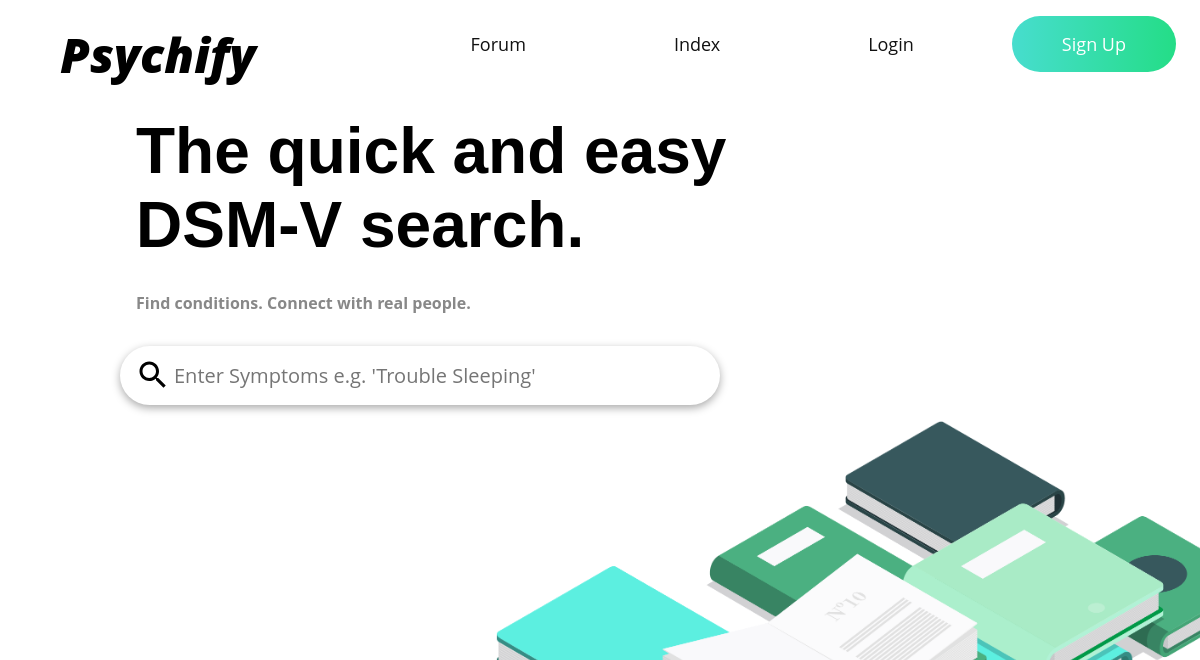
Test case: test incorrect login › logs in with wrong password
Click the link to "/login" at {"x": 891, "y": 44}, box left=818, top=16, right=964, bottom=72
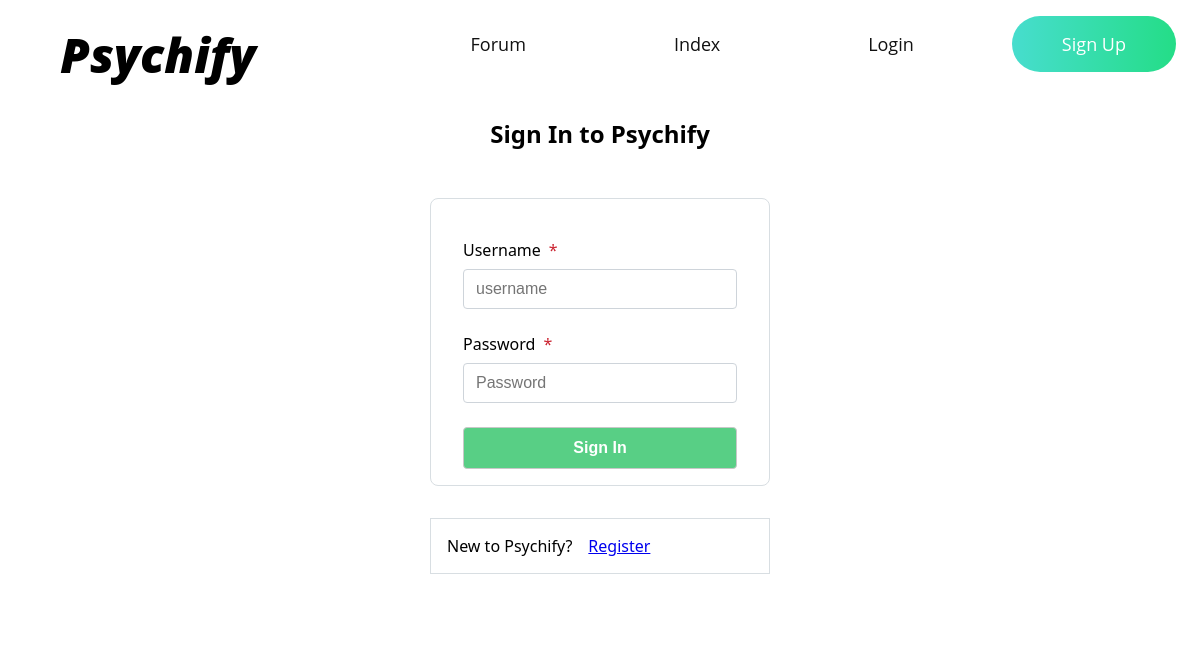
Type "test" into the field with id "inputUsername" at {"x": 600, "y": 289}, box left=463, top=269, right=737, bottom=309
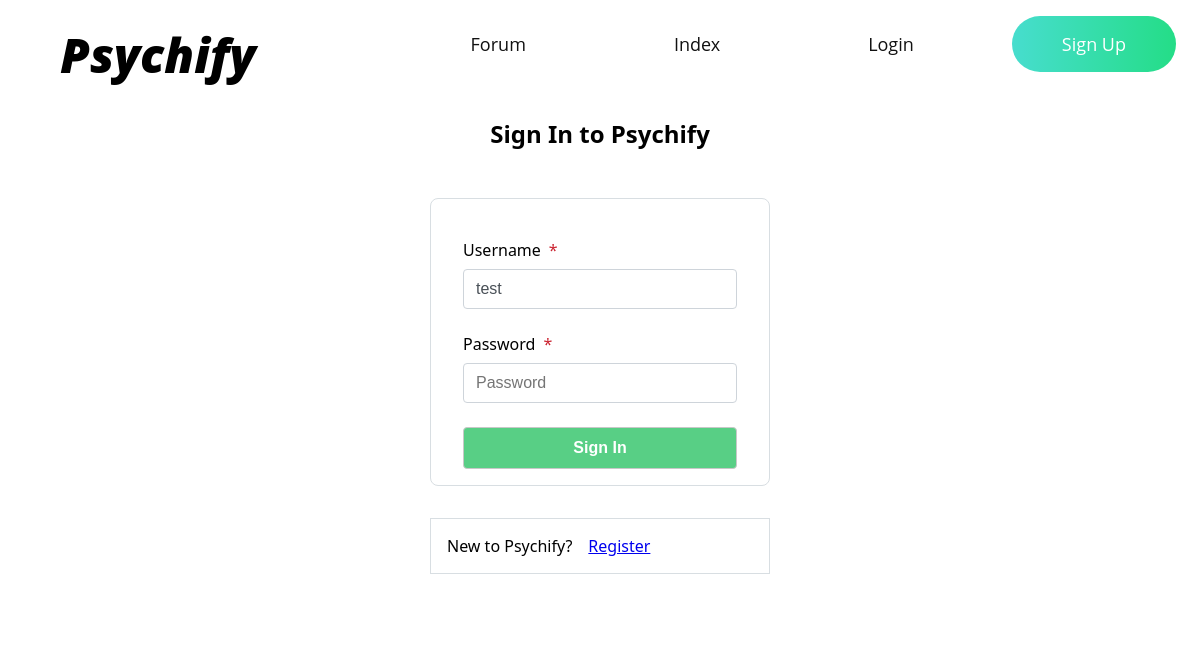
Type "wrongpassword" into the password field with id "inputPassword" at {"x": 600, "y": 383}, box left=463, top=363, right=737, bottom=403
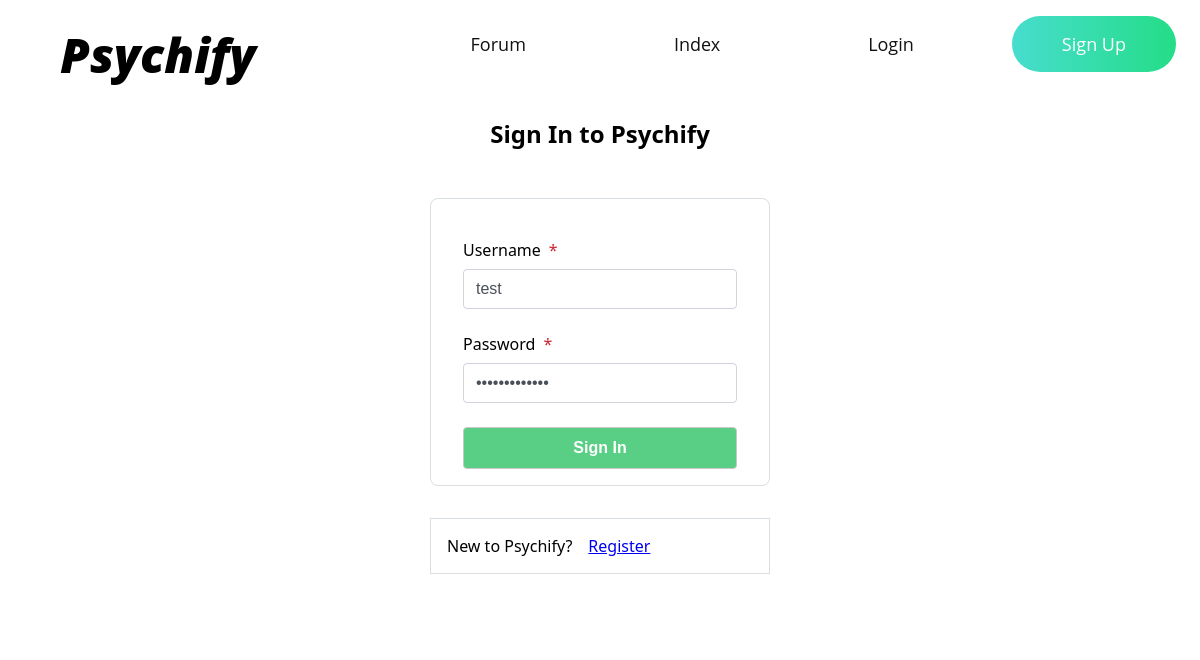
Click the button "Sign In" at {"x": 600, "y": 448}, box left=463, top=427, right=737, bottom=469
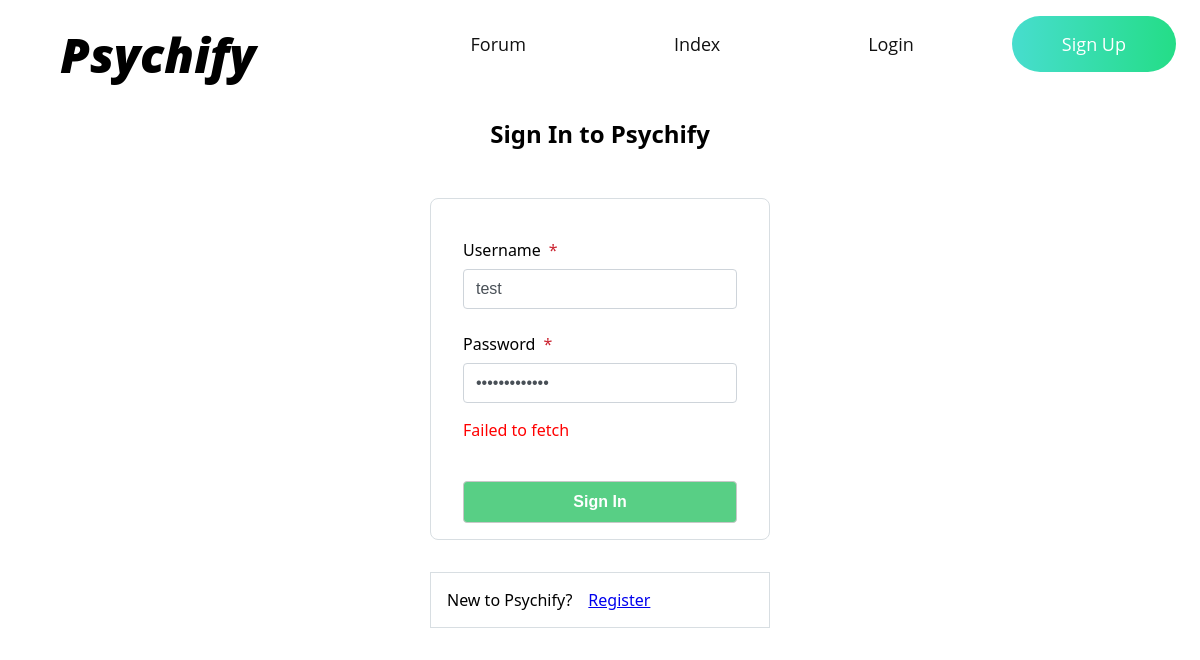
Expected: the text "Failed to fetch" is shown, left=463, top=419, right=569, bottom=441
